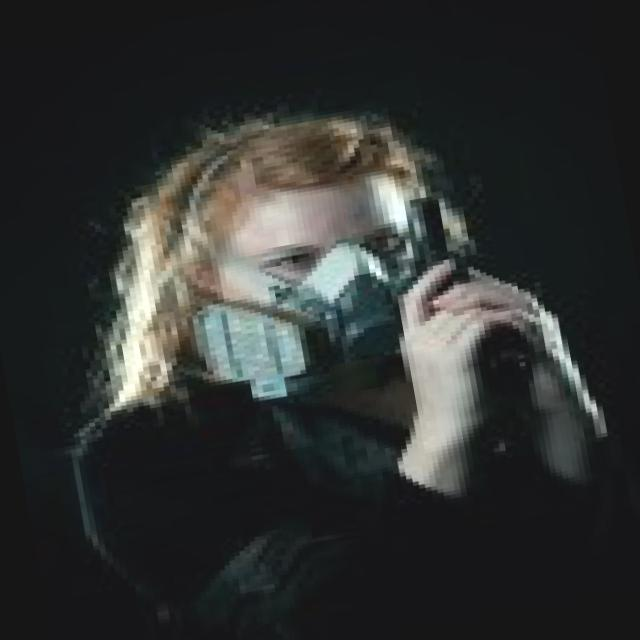handgun: (379, 178, 528, 404)
